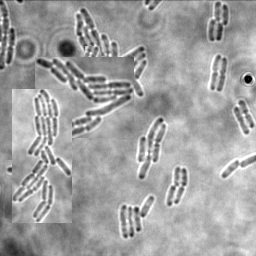Dividing: (175, 167, 189, 204), (238, 99, 255, 128), (209, 54, 222, 90), (217, 56, 228, 92), (7, 27, 17, 64)
Microcolony: (12, 89, 72, 223), (35, 57, 134, 138), (76, 7, 147, 98), (5, 160, 39, 218), (137, 117, 168, 180), (120, 195, 155, 238), (208, 1, 229, 42)
Rod: (233, 106, 251, 135), (222, 157, 240, 178), (85, 46, 100, 70), (167, 184, 177, 206), (174, 166, 183, 187)
